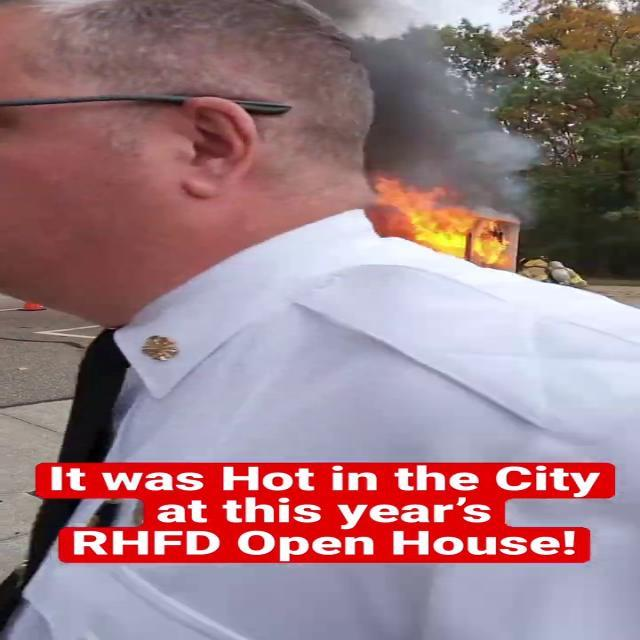Fire: (364, 187, 552, 267)
Smoke: (354, 38, 562, 200)
